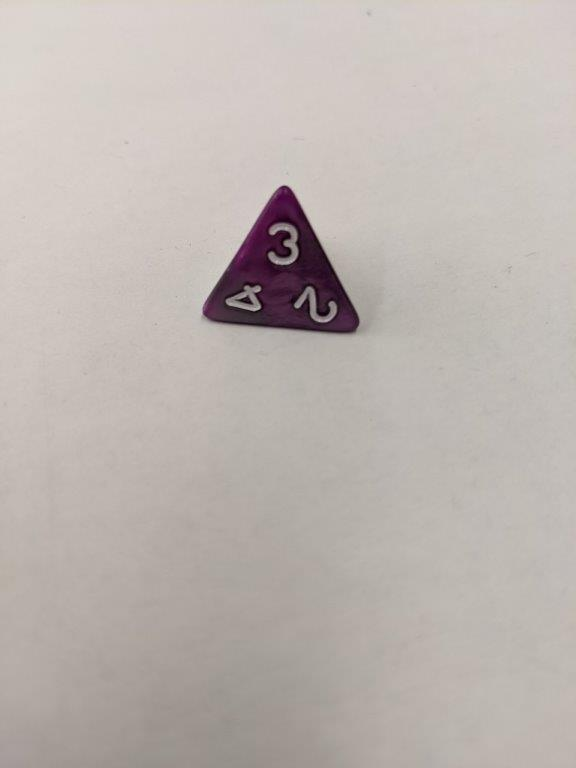d4-3: (197, 182, 367, 342)
